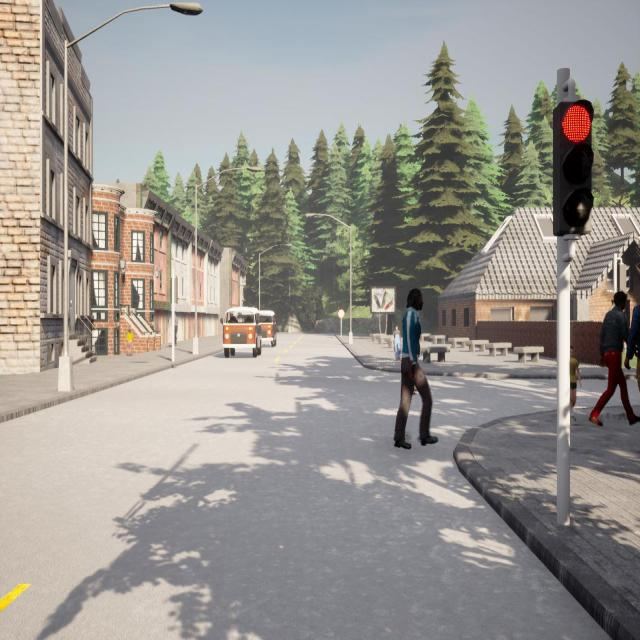Pedestrian: (394, 288, 437, 448), (589, 291, 639, 425), (568, 346, 584, 428), (391, 324, 402, 364), (125, 327, 133, 357), (174, 312, 178, 347)
Traffic_Signs: (338, 308, 346, 319)
Vehicle: (221, 307, 262, 357), (258, 310, 278, 347)
traffic_light: (553, 100, 593, 236), (171, 276, 178, 304)
